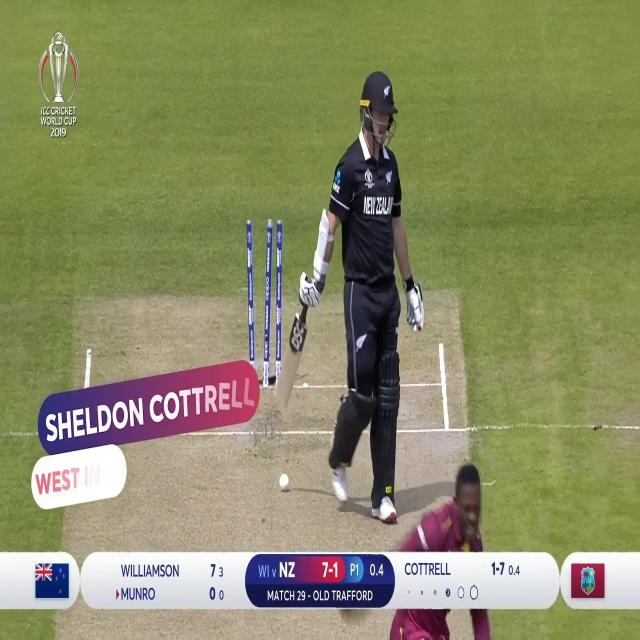ball: (276, 463, 292, 498)
